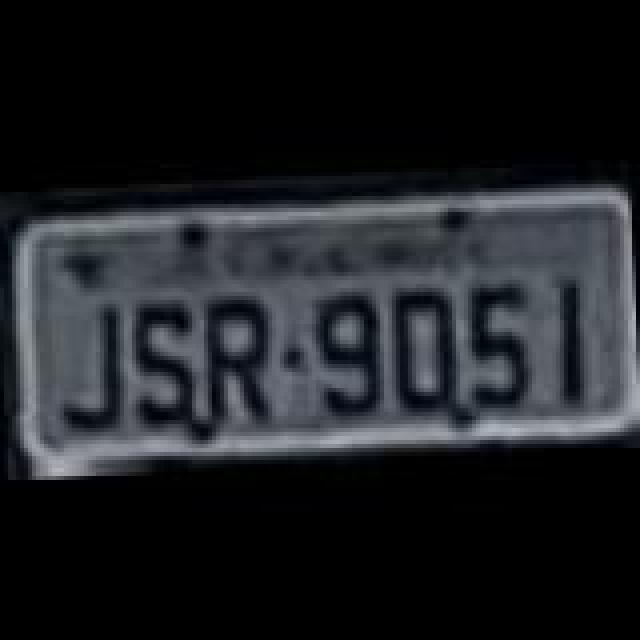1: (550, 274, 594, 406)
5: (464, 282, 544, 422)
9: (314, 286, 390, 418)
J: (52, 302, 140, 434)
O: (386, 286, 470, 418)
R: (198, 292, 282, 428)
S: (120, 292, 200, 428)
